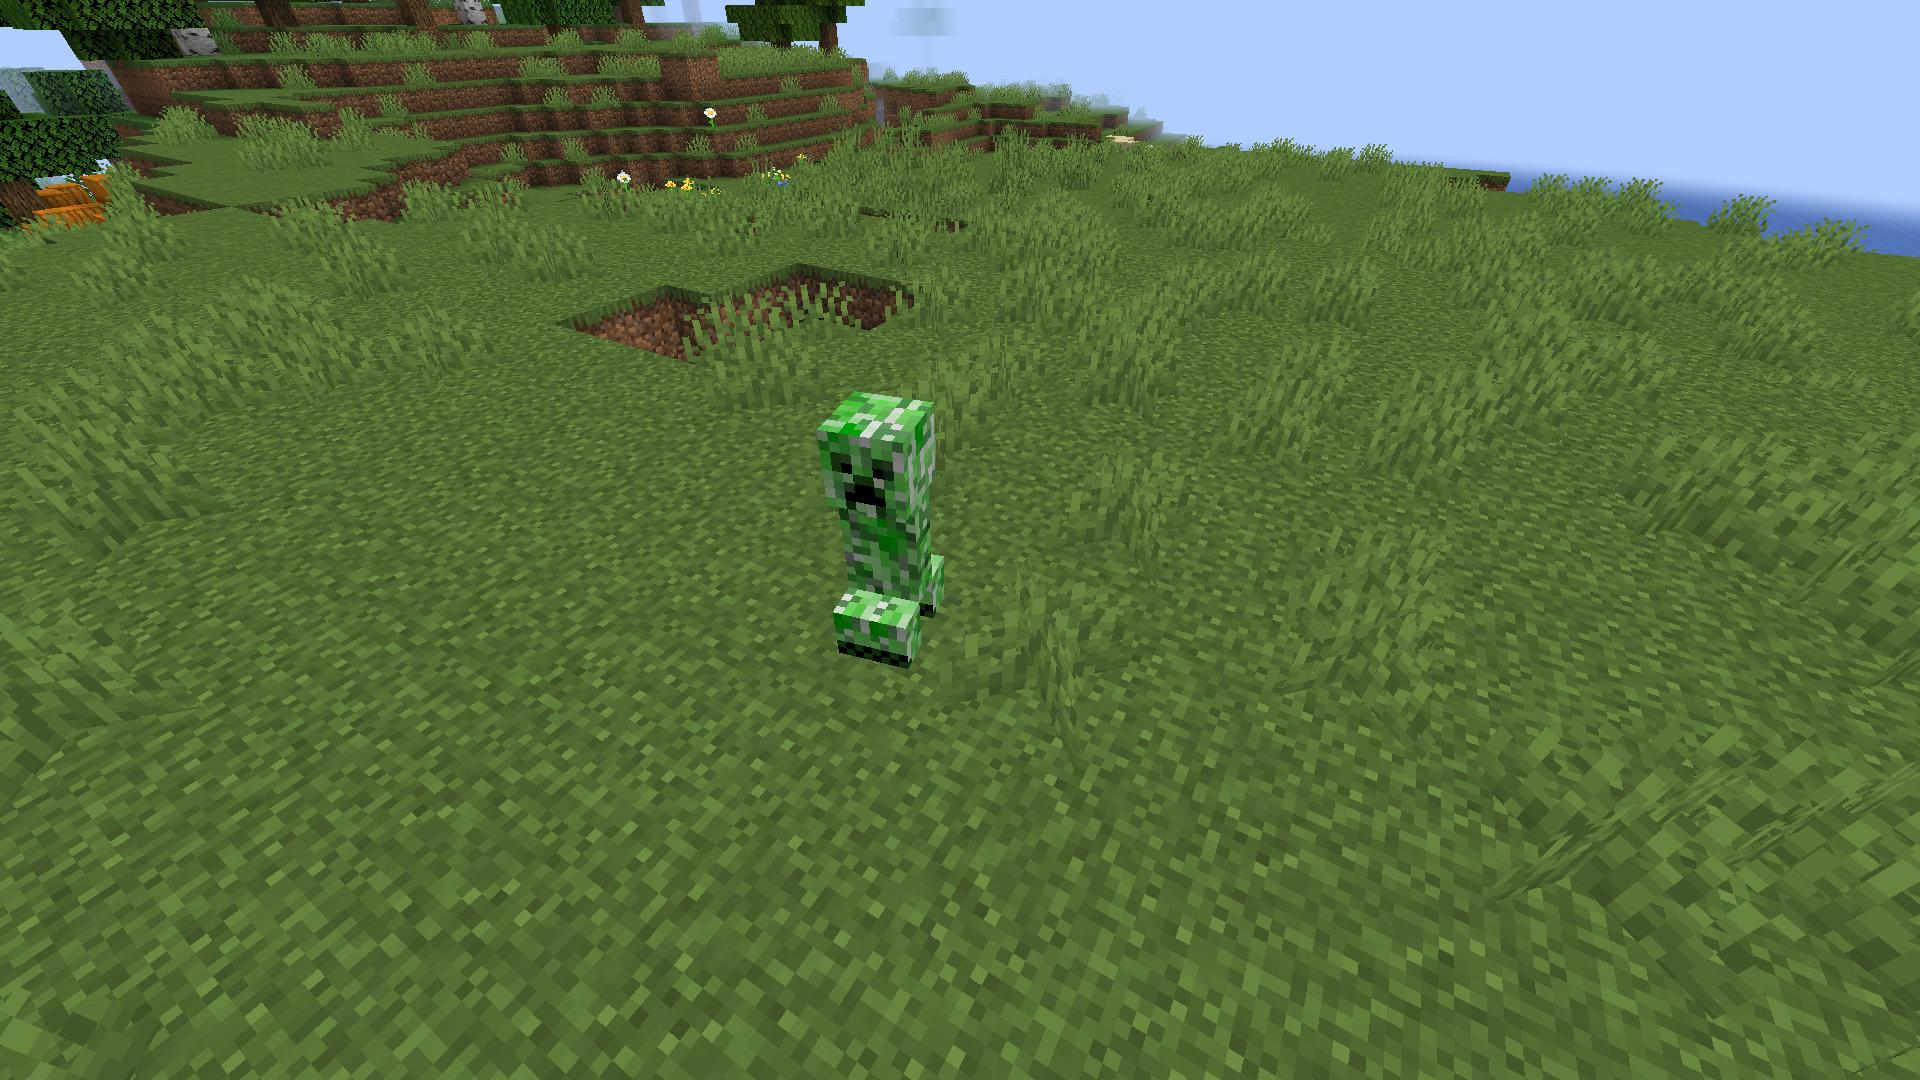creeper: (812, 378, 961, 678)
